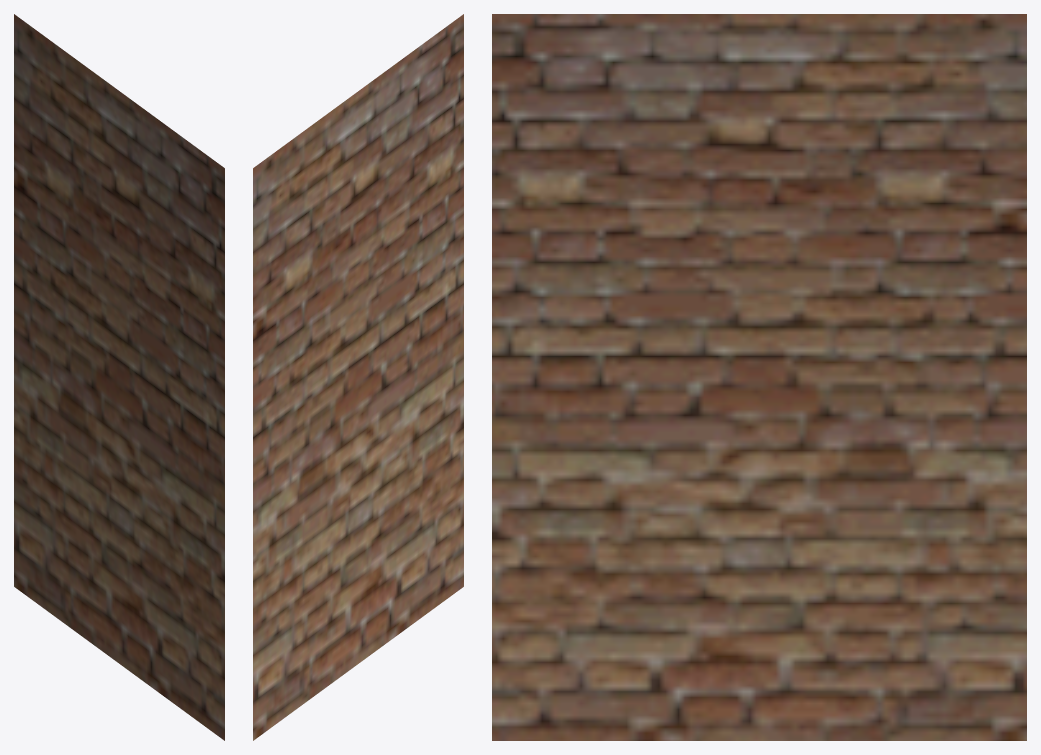
Rendered from Urban_BrickWallThin_Model.fbx.
The picture shows the model from 3 angles, left to right: view 1: azimuth 30°, elevation 25°; view 2: azimuth 150°, elevation 25°; view 3: azimuth 270°, elevation 25°; orthographic projection. The views are drawn at different scales.
Visible parts, largest first — view 1: Urban_BrickWallThin_Mesh; view 2: Urban_BrickWallThin_Mesh; view 3: Urban_BrickWallThin_Mesh.
Boxes of the visible parts, x1,y1,x2,y2 form: Urban_BrickWallThin_Mesh: (14,14,224,740); Urban_BrickWallThin_Mesh: (253,14,463,740); Urban_BrickWallThin_Mesh: (492,14,1026,740).
Size of the model in its own units: 1.59e-07 by 2.1 by 1.4.
